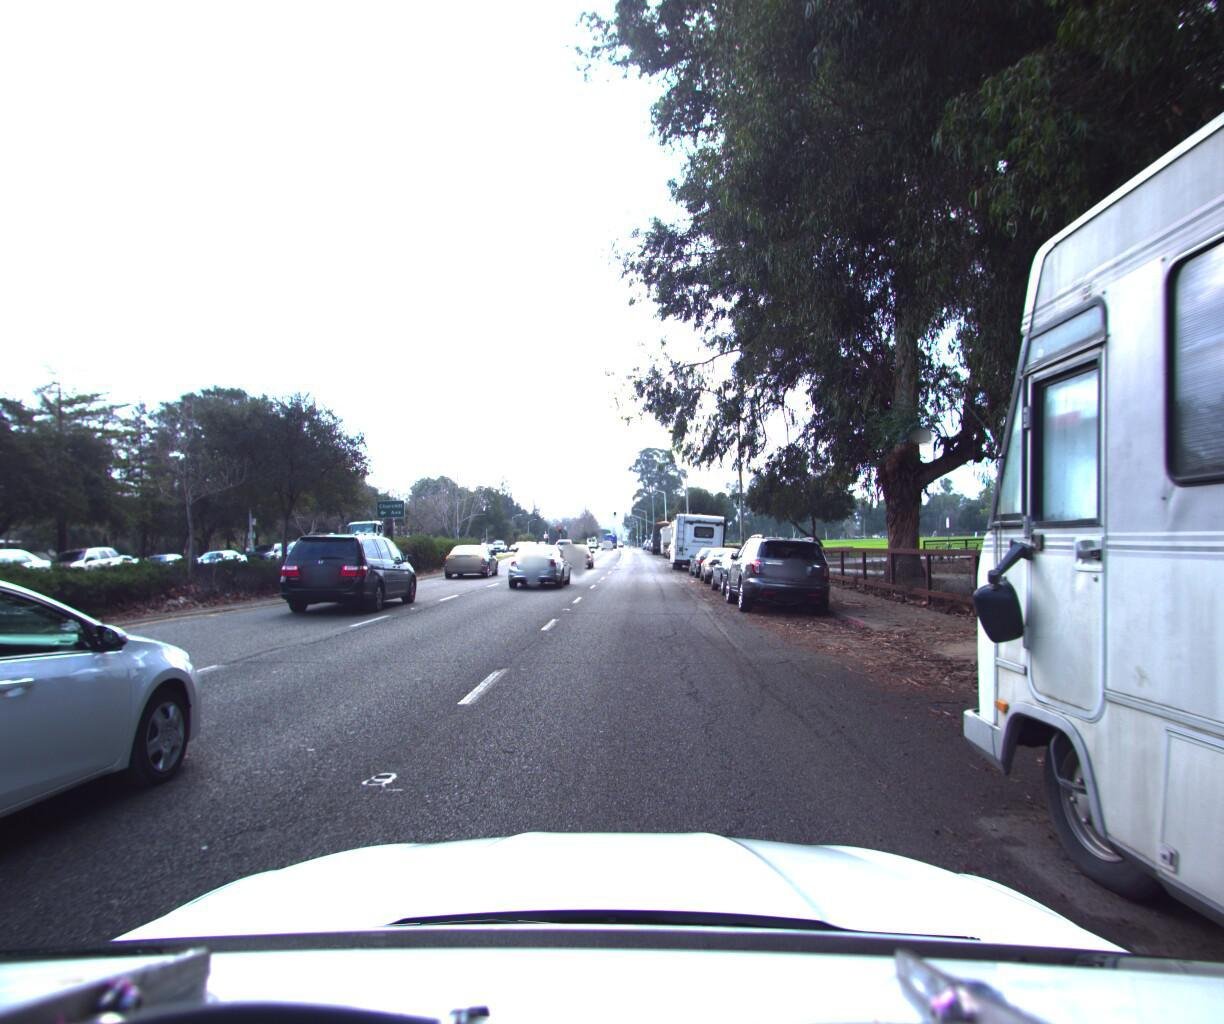bus: (649, 513, 677, 547)
car: (0, 531, 267, 1024), (267, 527, 428, 616), (717, 522, 835, 614), (25, 543, 132, 589), (705, 538, 787, 593), (501, 537, 576, 587), (0, 546, 60, 601), (695, 538, 754, 579), (441, 538, 501, 574), (181, 543, 253, 573), (684, 537, 735, 574), (558, 537, 594, 564), (554, 533, 577, 550)
other_vehicle: (664, 502, 729, 566), (657, 517, 690, 549)
truck: (325, 517, 429, 561)
